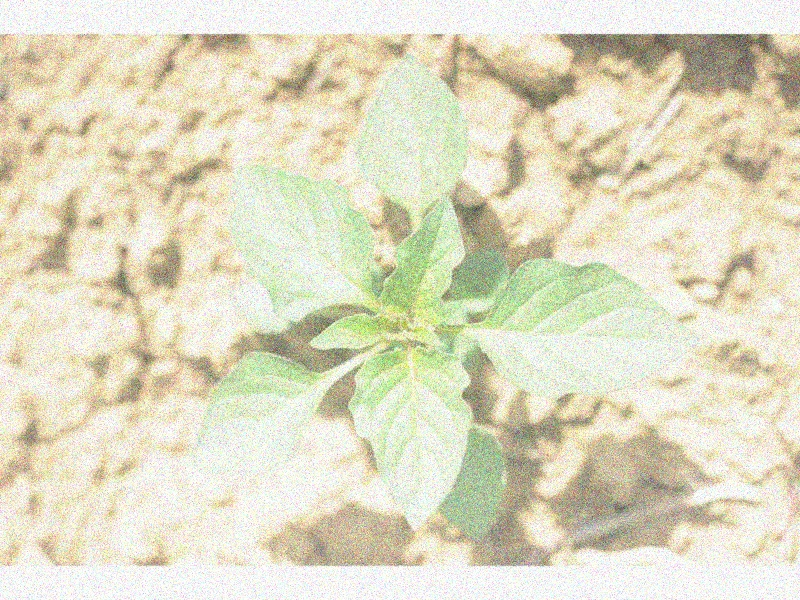nightshade: (192, 50, 697, 542)
